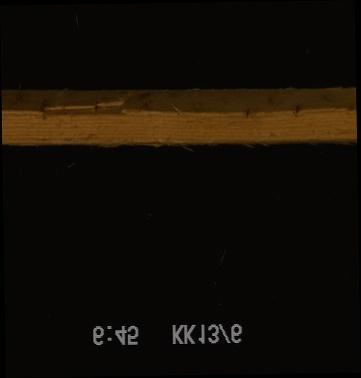wave: (1, 92, 355, 147)
